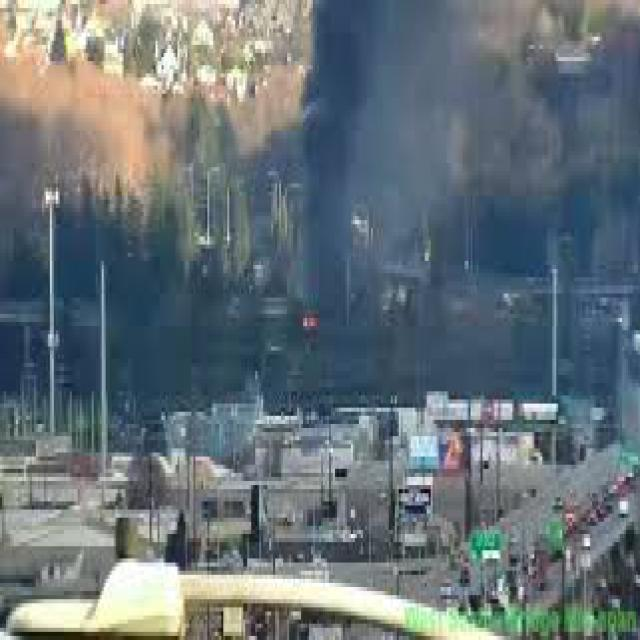smoke: (299, 4, 524, 281)
